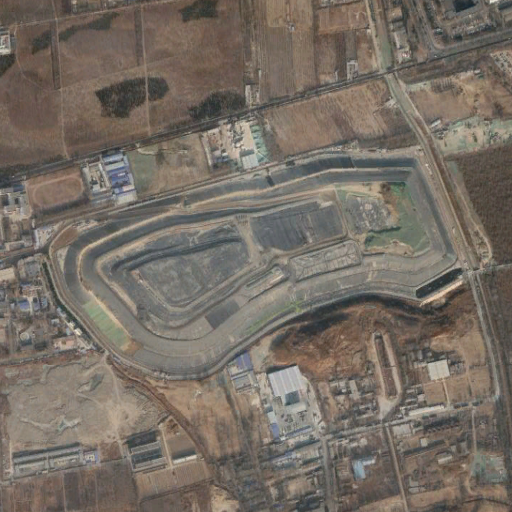lf: (48, 152, 465, 380)
